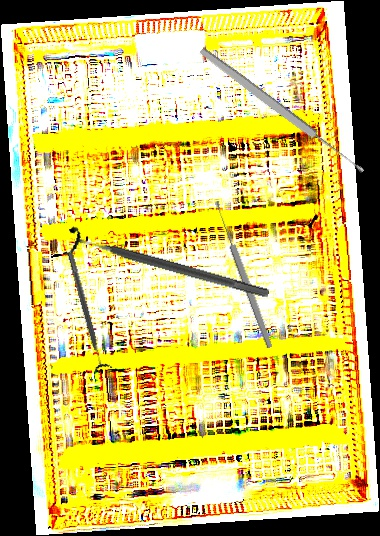Fixation Ring: (62, 224, 273, 310), (61, 250, 113, 373)
Surgical Spoon: (197, 45, 367, 177), (212, 200, 275, 349)
